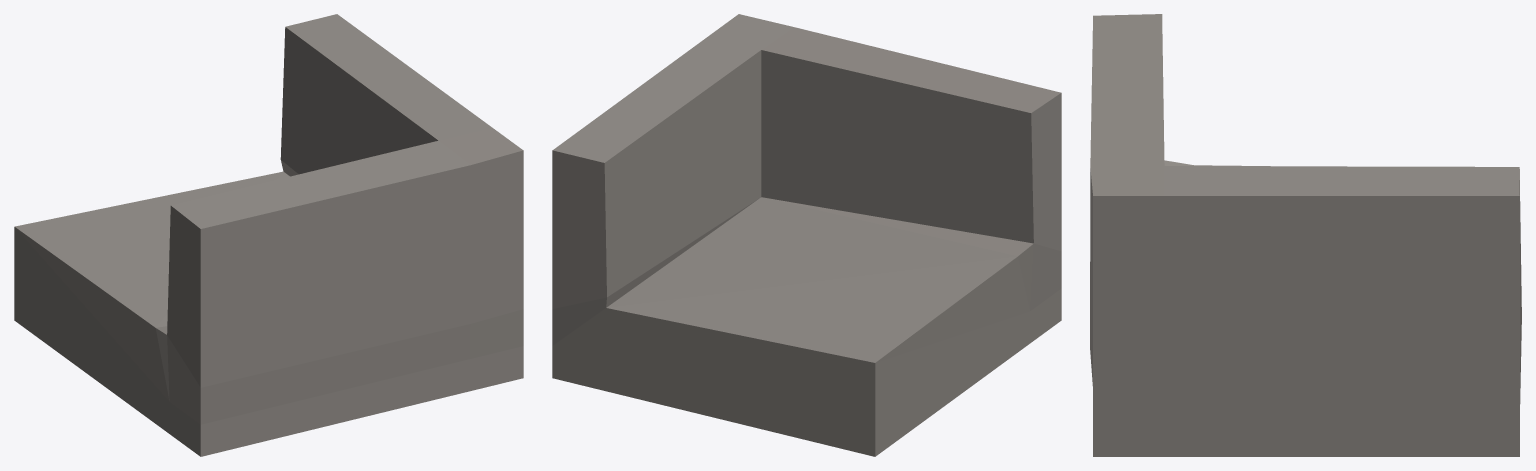
Rendered from start.fbx.
The picture shows the model from 3 angles, left to right: view 1: azimuth 30°, elevation 25°; view 2: azimuth 150°, elevation 25°; view 3: azimuth 270°, elevation 25°; orthographic projection. The views are drawn at different scales.
Visible parts, largest first — view 1: Start-End; view 2: Start-End; view 3: Start-End.
Part boxes in pixels (<box>): Start-End: <box>14,14,523,456</box>; Start-End: <box>552,14,1061,456</box>; Start-End: <box>1090,14,1521,456</box>.
Size of the model in its own units: 2 by 2 by 1.34.
